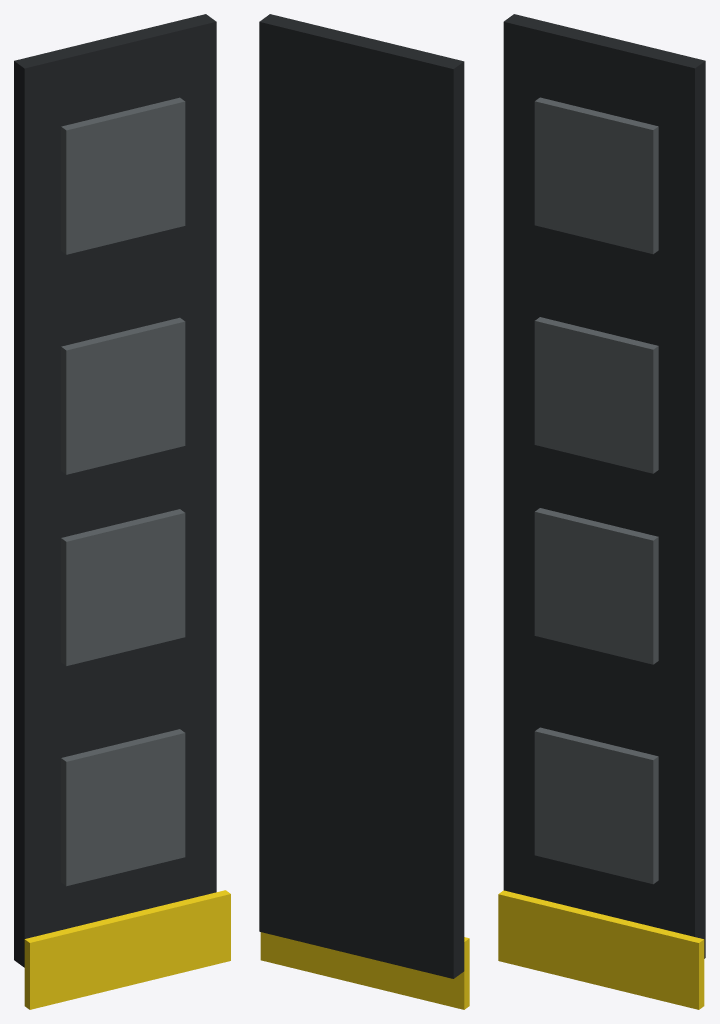
The model's file is pcb.obj.
The picture shows the model from 3 angles, left to right: view 1: azimuth 30°, elevation 25°; view 2: azimuth 150°, elevation 25°; view 3: azimuth 330°, elevation 25°; orthographic projection.
Parts seen in each view (by area): view 1: group_0_2829873, group_0_6383466, group_0_16768282; view 2: group_0_2829873, group_0_16768282; view 3: group_0_2829873, group_0_6383466, group_0_16768282.
Boxes of the visible parts, x1,y1,x2,y2 form: group_0_2829873: (14,14,216,967); group_0_6383466: (61,97,185,886); group_0_16768282: (24,890,230,1009); group_0_2829873: (259,14,464,978); group_0_16768282: (260,932,469,1009); group_0_2829873: (503,14,705,958); group_0_6383466: (534,97,658,884); group_0_16768282: (498,890,704,1009).
Bounding box in the file's own units: 22 × 98 × 3.
